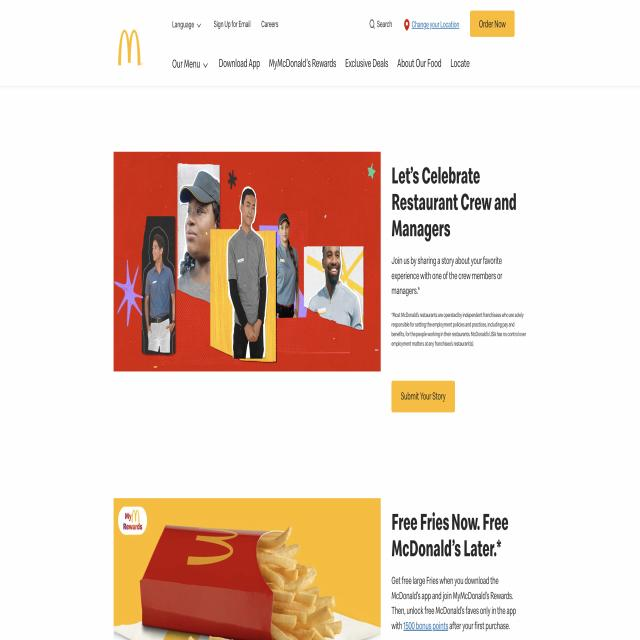Logo: (114, 26, 147, 77)
Navigation: (168, 50, 488, 73)
